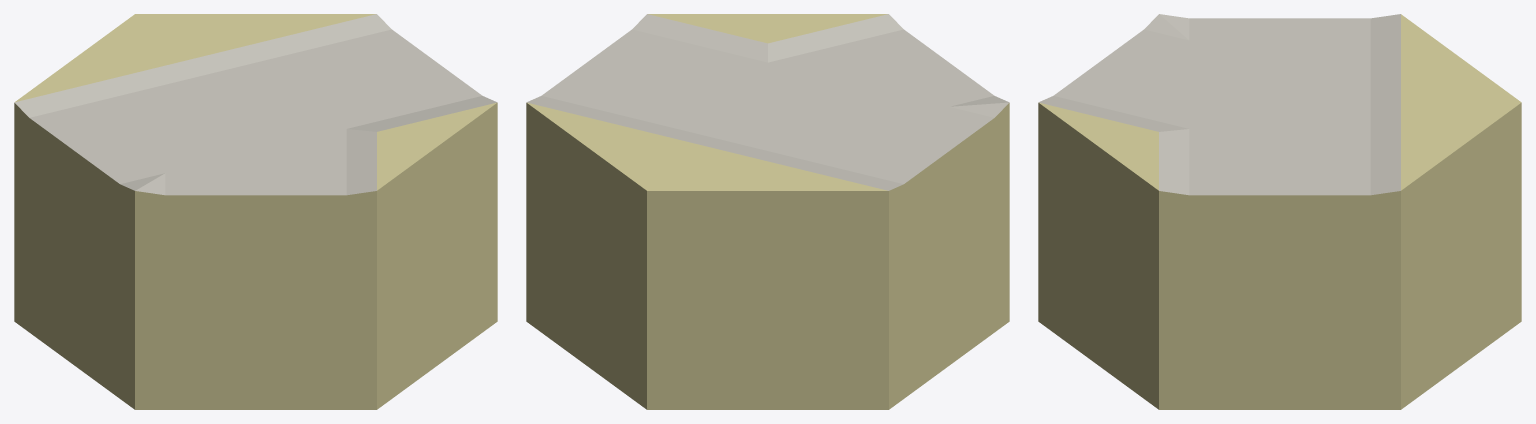
The model's file is sand_road4.fbx.
The picture shows the model from 3 angles, left to right: view 1: azimuth 30°, elevation 25°; view 2: azimuth 150°, elevation 25°; view 3: azimuth 270°, elevation 25°; orthographic projection.
Parts seen in each view (by area): view 1: Cylinder; view 2: Cylinder; view 3: Cylinder.
Part boxes in pixels (x1,y1,x2,y2): Cylinder: (14,14,497,409); Cylinder: (526,14,1009,409); Cylinder: (1038,14,1521,409).
Size of the model in its own units: 1.73 by 1 by 2.
